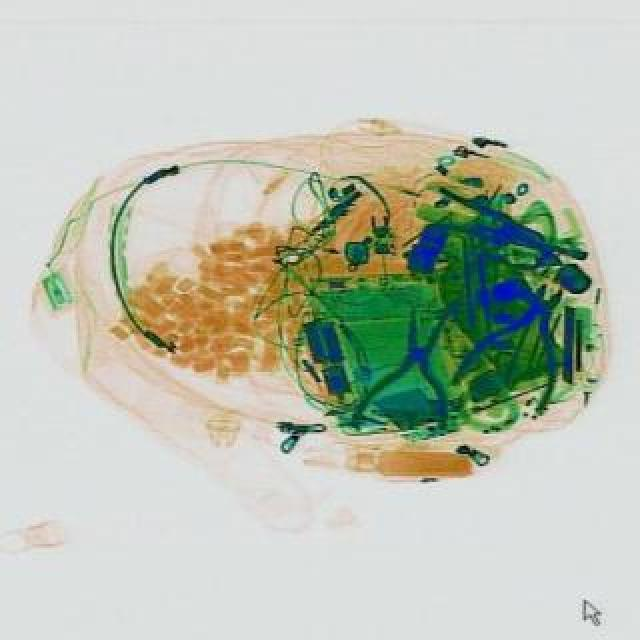wrench: (446, 262, 594, 414), (348, 300, 464, 440), (420, 186, 550, 260)
